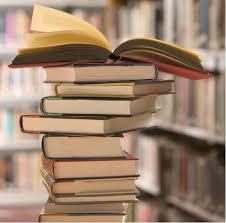Paper: (4, 5, 221, 223)
